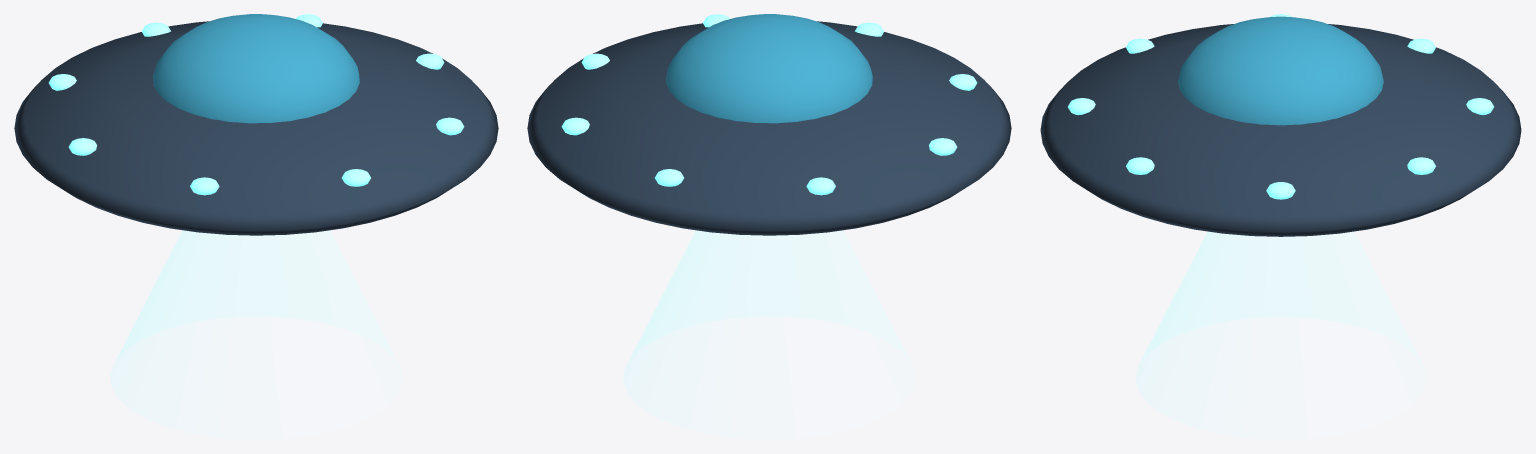
File: ufo.glb
The picture shows the model from 3 angles, left to right: view 1: azimuth 30°, elevation 25°; view 2: azimuth 150°, elevation 25°; view 3: azimuth 270°, elevation 25°; orthographic projection.
Visible parts, largest first — view 1: Body_Sculpture, Beam; view 2: Body_Sculpture, Beam; view 3: Body_Sculpture, Beam.
Part boxes in pixels (x1,y1,x2,y2): Body_Sculpture: (14, 14, 498, 235); Beam: (116, 230, 398, 364); Body_Sculpture: (527, 14, 1011, 235); Beam: (627, 230, 909, 427); Body_Sculpture: (1040, 14, 1521, 236); Beam: (1139, 232, 1422, 365).
Size of the model in its own units: 0.39 by 0.311 by 0.39.
